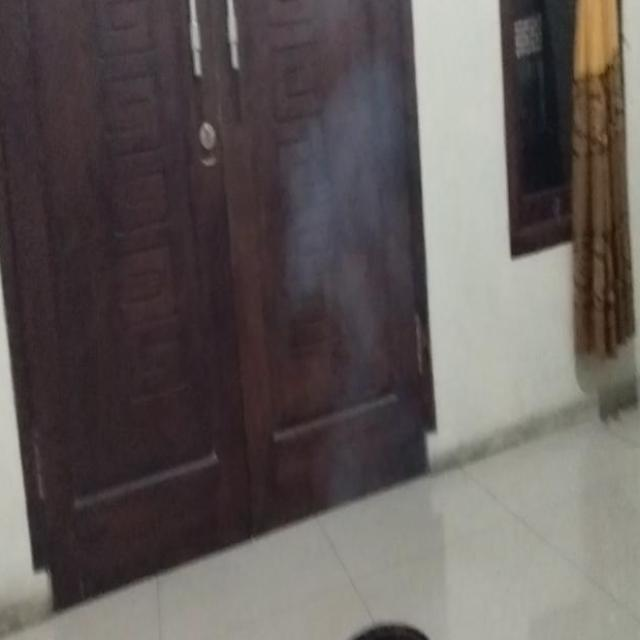fire: (282, 80, 415, 330)
